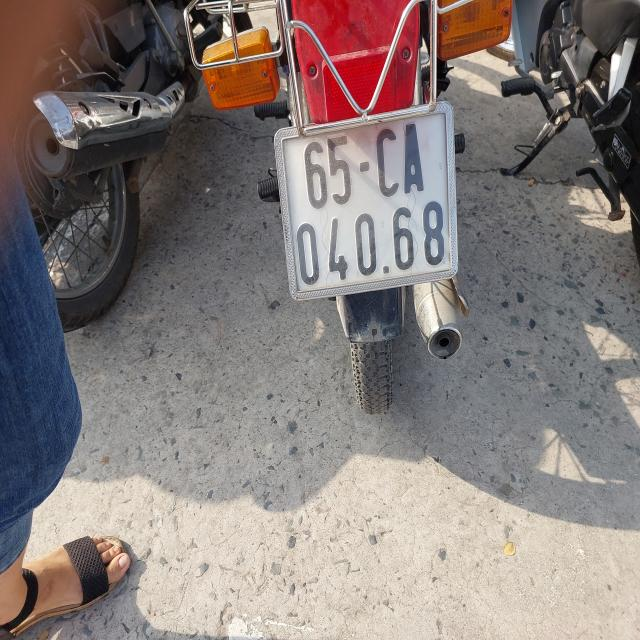0: (292, 219, 322, 284), (353, 210, 378, 276)
4: (328, 213, 350, 282)
5: (326, 133, 355, 208)
6: (301, 144, 331, 212), (391, 202, 418, 270)
8: (419, 200, 446, 269)
A: (400, 120, 427, 197)
C: (376, 125, 402, 198)
